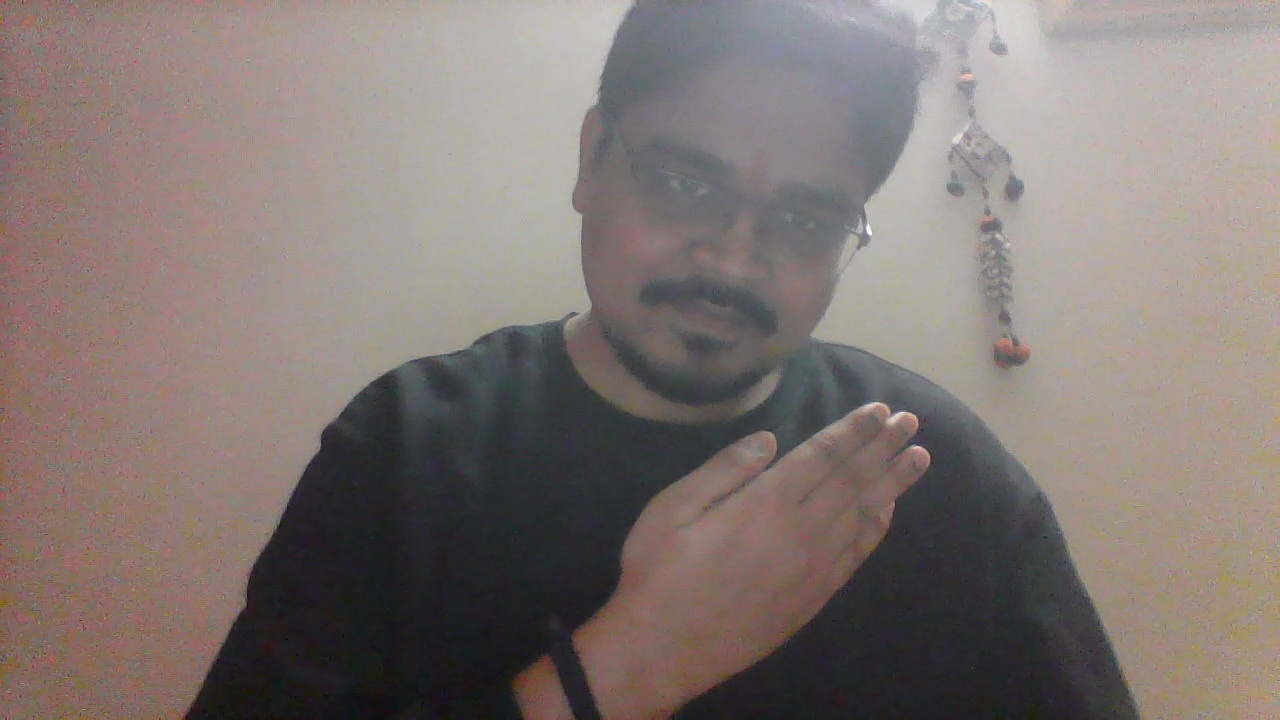Please: (589, 400, 938, 694)
